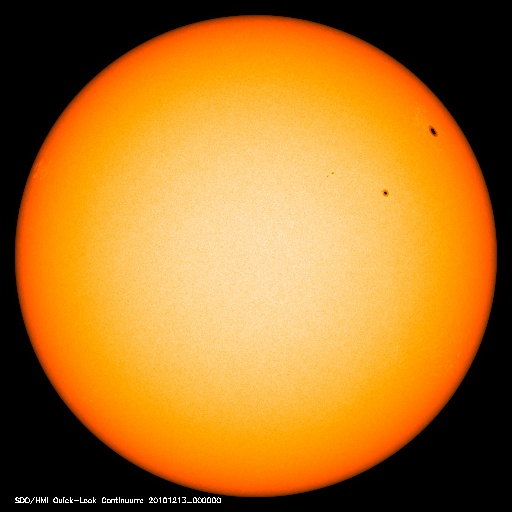sunspot: (419, 114, 447, 149), (370, 181, 402, 206), (314, 161, 346, 186)
